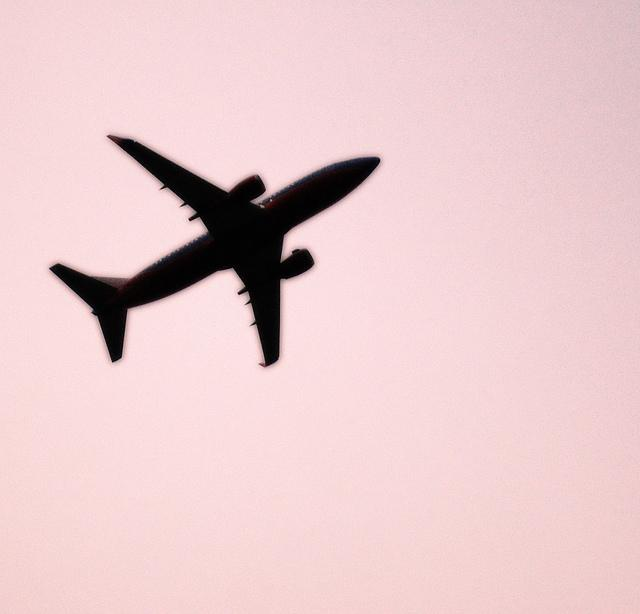airplane: (47, 131, 384, 370)
